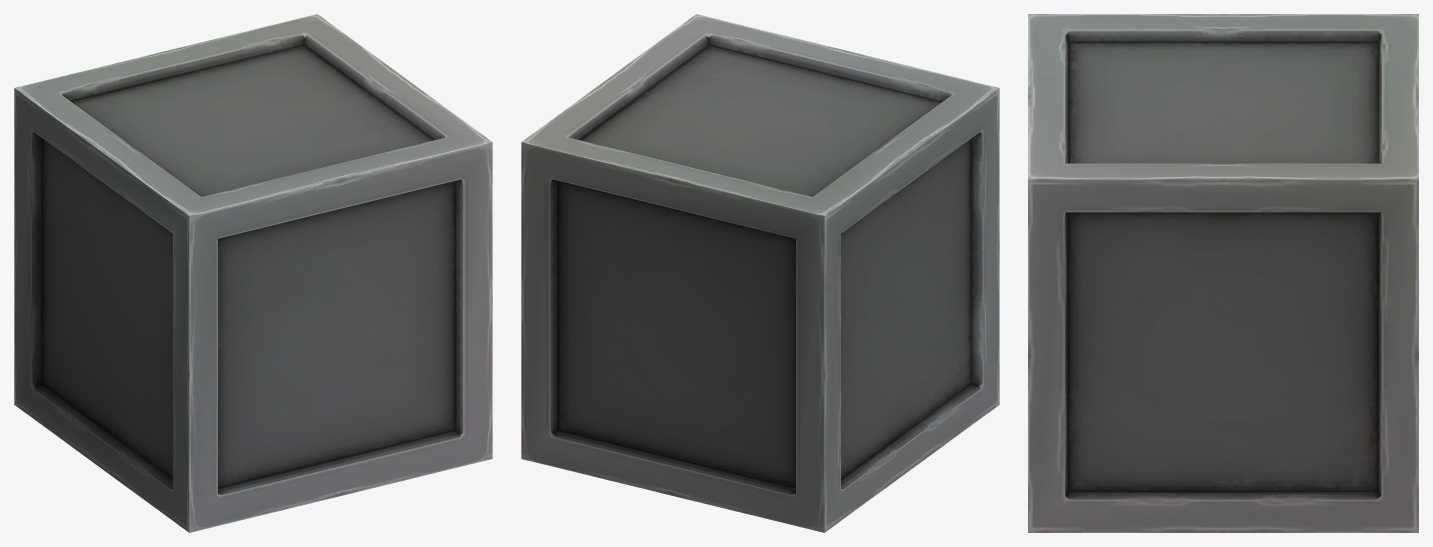
The model's file is SM_Crate_02.glb.
3 renders of one model, left to right at view 1: azimuth 30°, elevation 25°; view 2: azimuth 150°, elevation 25°; view 3: azimuth 270°, elevation 25°, orthographic. The views are drawn at different scales.
Visible parts, largest first — view 1: SM_Crate_02; view 2: SM_Crate_02; view 3: SM_Crate_02.
Part boxes in pixels (x1=…): SM_Crate_02: x1=14, y1=14, x2=492, y2=532; SM_Crate_02: x1=521, y1=14, x2=999, y2=532; SM_Crate_02: x1=1028, y1=14, x2=1418, y2=532.
Size of the model in its own units: 0.4934 by 0.4926 by 0.4934.
Materials: 1 (1 with a texture image).
